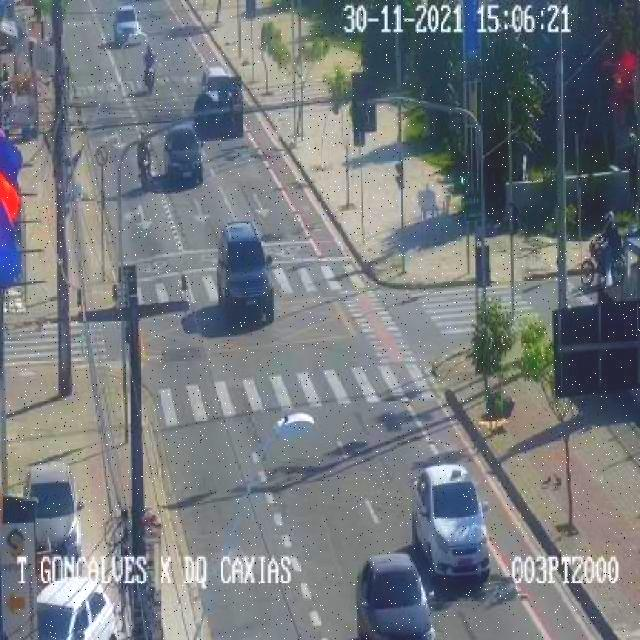Car: (416, 464, 494, 582), (355, 550, 433, 640), (214, 218, 278, 326), (20, 464, 88, 556), (38, 575, 115, 640), (161, 122, 206, 188), (110, 4, 142, 47)
Cycle: (576, 237, 629, 288), (135, 146, 156, 190), (141, 56, 160, 94)
